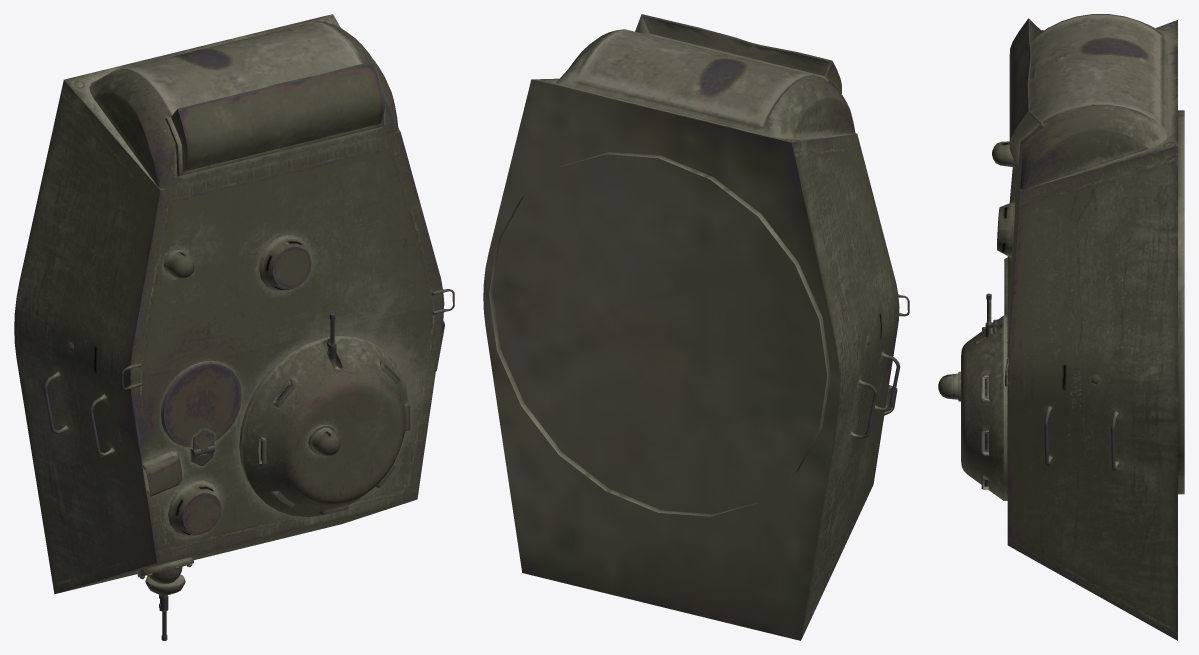
File: Turret_01.glb
The picture shows the model from 3 angles, left to right: view 1: azimuth 30°, elevation 25°; view 2: azimuth 150°, elevation 25°; view 3: azimuth 270°, elevation 25°; orthographic projection. The views are drawn at different scales.
Visible parts, largest first — view 1: set_0_group_0; view 2: set_0_group_0; view 3: set_0_group_0.
Boxes of the visible parts, bbox=[...] form: set_0_group_0: bbox=[14, 14, 454, 640]; set_0_group_0: bbox=[483, 14, 909, 640]; set_0_group_0: bbox=[938, 14, 1184, 640].
Size of the model in its own units: 2.56 by 3.68 by 1.51.
Materials: 1 (1 with a texture image).
